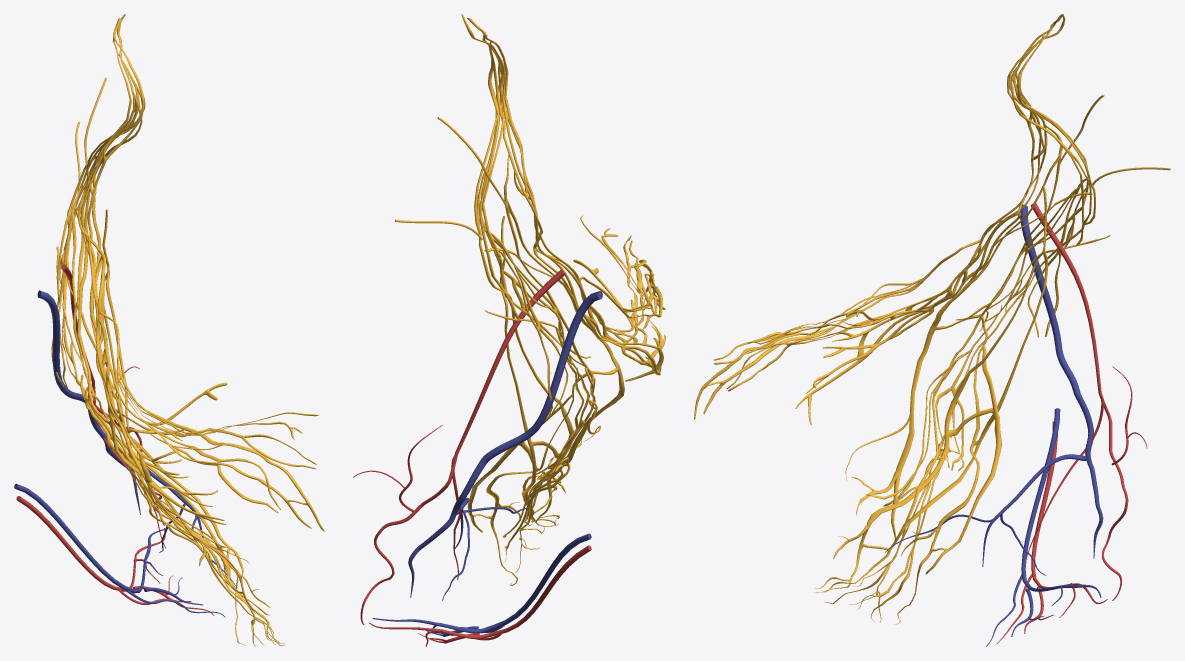
Rendered from rectal-interface.glb.
3 renders of one model, left to right at view 1: azimuth 30°, elevation 25°; view 2: azimuth 150°, elevation 25°; view 3: azimuth 270°, elevation 25°, orthographic. The views are drawn at different scales.
Visible parts, largest first — view 1: VMRA_RIGHT_VESICAL_PLEXUS_01, VMRA_RIGHT_MIDDLE_RECTAL_VEIN_01, VMRA_RIGHT_INFERIOR_RECTAL_VEIN_01, VMRA_RIGHT_INFERIOR_RECTAL_ARTERY_01, VMRA_RIGHT_MIDDLE_RECTAL_ARTERY_01; view 2: VMRA_RIGHT_VESICAL_PLEXUS_01, VMRA_RIGHT_MIDDLE_RECTAL_VEIN_01, VMRA_RIGHT_MIDDLE_RECTAL_ARTERY_01, VMRA_RIGHT_INFERIOR_RECTAL_ARTERY_01, VMRA_RIGHT_INFERIOR_RECTAL_VEIN_01; view 3: VMRA_RIGHT_VESICAL_PLEXUS_01, VMRA_RIGHT_MIDDLE_RECTAL_VEIN_01, VMRA_RIGHT_MIDDLE_RECTAL_ARTERY_01, VMRA_RIGHT_INFERIOR_RECTAL_VEIN_01, VMRA_RIGHT_INFERIOR_RECTAL_ARTERY_01.
Part boxes in pixels (x1=…): VMRA_RIGHT_VESICAL_PLEXUS_01: x1=51, y1=14, x2=324, y2=646; VMRA_RIGHT_MIDDLE_RECTAL_VEIN_01: x1=37, y1=290, x2=237, y2=588; VMRA_RIGHT_INFERIOR_RECTAL_VEIN_01: x1=14, y1=483, x2=225, y2=617; VMRA_RIGHT_INFERIOR_RECTAL_ARTERY_01: x1=16, y1=496, x2=213, y2=615; VMRA_RIGHT_MIDDLE_RECTAL_ARTERY_01: x1=60, y1=264, x2=165, y2=548; VMRA_RIGHT_VESICAL_PLEXUS_01: x1=395, y1=14, x2=665, y2=585; VMRA_RIGHT_MIDDLE_RECTAL_VEIN_01: x1=408, y1=291, x2=602, y2=600; VMRA_RIGHT_MIDDLE_RECTAL_ARTERY_01: x1=353, y1=269, x2=565, y2=624; VMRA_RIGHT_INFERIOR_RECTAL_ARTERY_01: x1=369, y1=545, x2=591, y2=646; VMRA_RIGHT_INFERIOR_RECTAL_VEIN_01: x1=372, y1=533, x2=591, y2=636; VMRA_RIGHT_VESICAL_PLEXUS_01: x1=694, y1=14, x2=1170, y2=624; VMRA_RIGHT_MIDDLE_RECTAL_VEIN_01: x1=885, y1=204, x2=1103, y2=575; VMRA_RIGHT_MIDDLE_RECTAL_ARTERY_01: x1=1025, y1=203, x2=1147, y2=600; VMRA_RIGHT_INFERIOR_RECTAL_VEIN_01: x1=986, y1=408, x2=1101, y2=646; VMRA_RIGHT_INFERIOR_RECTAL_ARTERY_01: x1=996, y1=421, x2=1107, y2=644.
Bounding box in the file's own units: 0.045 × 0.1438 × 0.1033.
